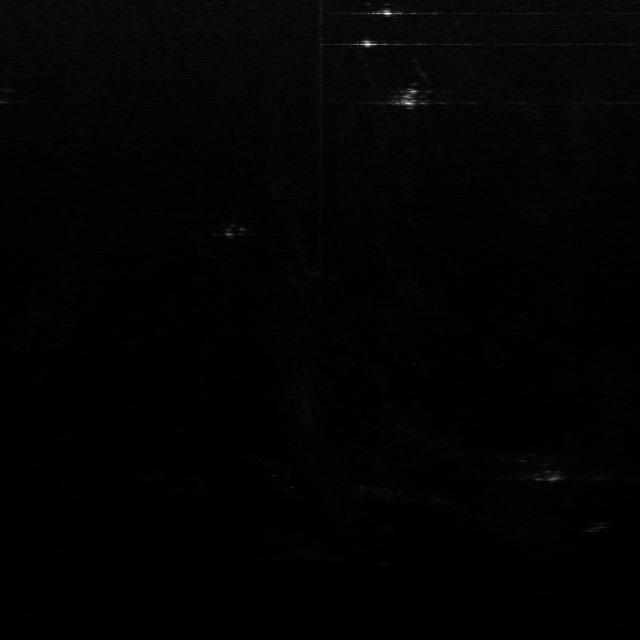rov: (393, 82, 429, 108)
